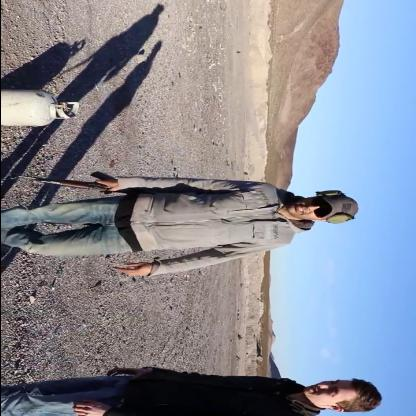long weapon: (10, 164, 184, 200)
